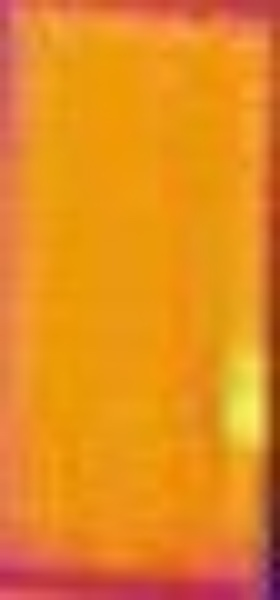Hotspot: (217, 349, 280, 459)
